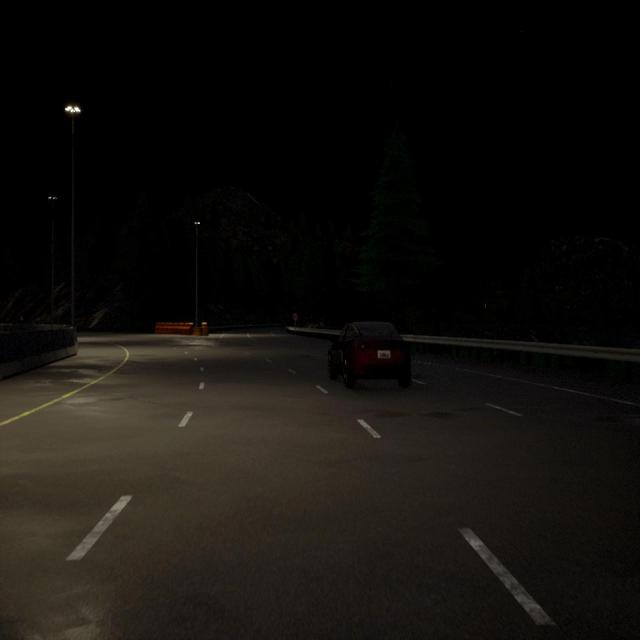Traffic_Signs: (292, 313, 298, 320), (20, 317, 23, 320)
Vehicle: (328, 321, 410, 388)
